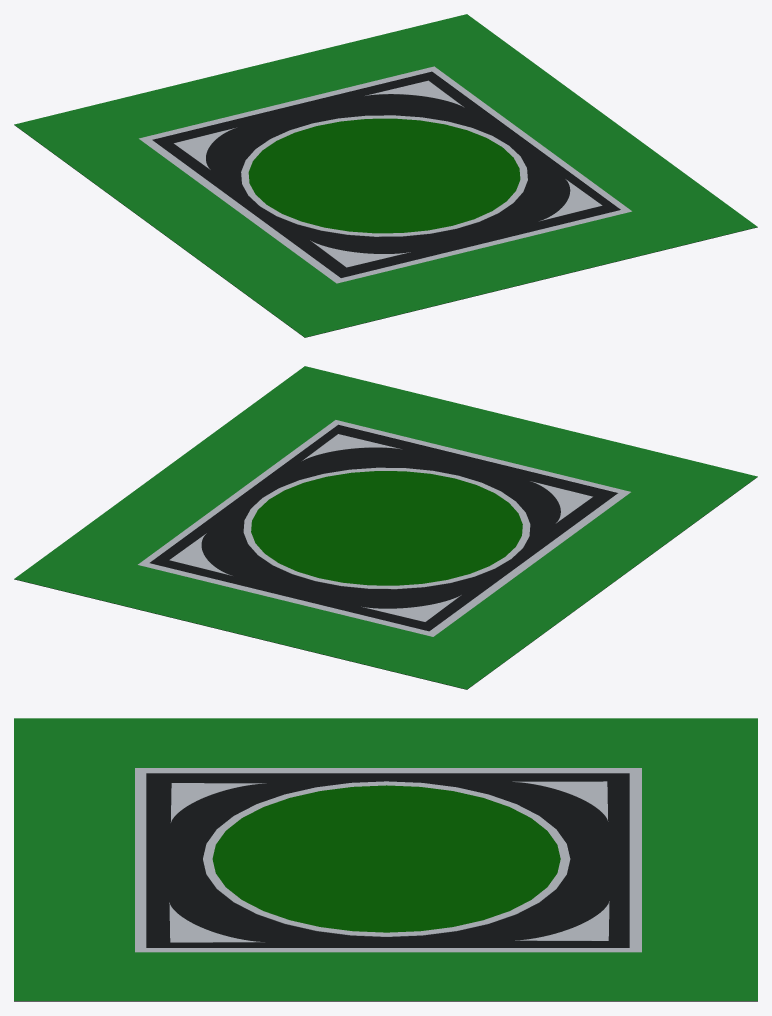
The model's file is CarreteraNivel3.fbx.
The picture shows the model from 3 angles, top to bottom: view 1: azimuth 30°, elevation 25°; view 2: azimuth 150°, elevation 25°; view 3: azimuth 270°, elevation 25°; orthographic projection. The views are drawn at different scales.
Parts seen in each view (by area): view 1: Calle3; view 2: Calle3; view 3: Calle3.
Part boxes in pixels (x1,y1,x2,y2): Calle3: (14, 14, 757, 337); Calle3: (14, 366, 757, 689); Calle3: (14, 718, 757, 1001).
Bounding box in the file's own units: 22214 × 120 × 24712.
